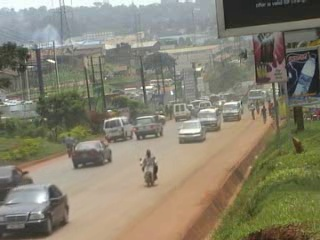Car: (0, 181, 70, 237), (68, 138, 114, 171), (0, 162, 35, 199), (176, 118, 207, 145), (134, 114, 164, 141), (171, 101, 191, 122), (186, 100, 196, 115)
Motorcycle: (138, 144, 160, 189), (63, 131, 76, 159), (155, 109, 167, 124)
